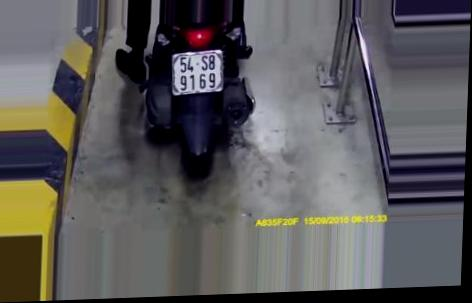License_Plate: (166, 47, 231, 97)
